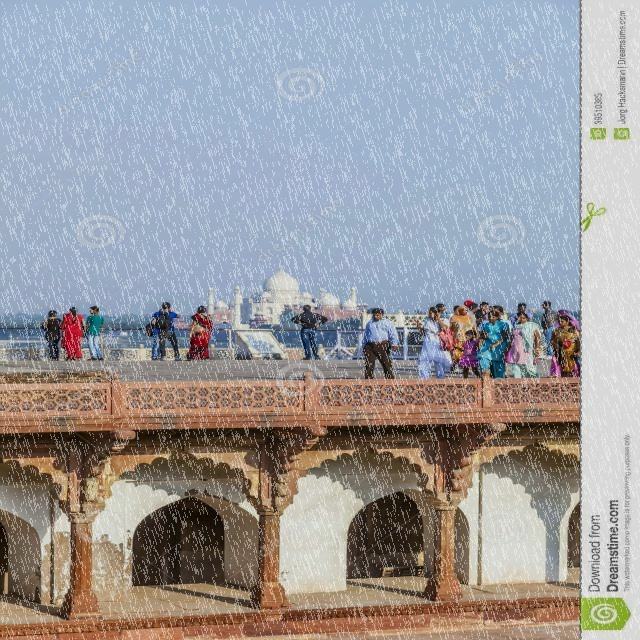pessoa: (413, 306, 454, 380), (360, 307, 400, 380), (502, 312, 542, 380), (474, 310, 512, 378), (546, 309, 580, 379), (448, 305, 479, 372), (291, 304, 328, 360), (150, 301, 184, 361), (550, 315, 580, 378), (184, 306, 214, 362), (450, 330, 482, 378), (59, 306, 86, 362), (244, 329, 282, 366), (82, 304, 105, 360), (478, 305, 514, 340), (40, 310, 64, 361), (540, 300, 559, 361), (511, 302, 534, 327), (150, 316, 162, 361), (472, 302, 490, 328), (449, 298, 472, 312), (467, 303, 479, 327), (434, 302, 449, 320), (484, 306, 494, 314)
